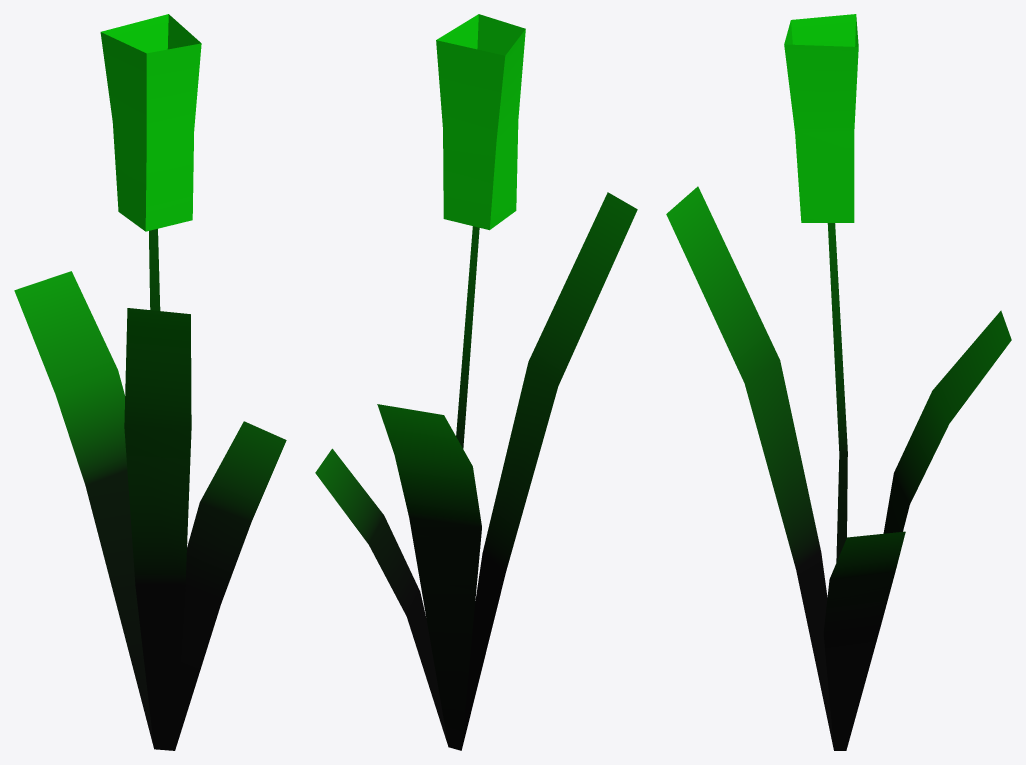
The model's file is IL3DN_Plant_Flower_02.fbx.
3 views of the same model, side by side, from view 1: azimuth 30°, elevation 25°; view 2: azimuth 150°, elevation 25°; view 3: azimuth 270°, elevation 25° (orthographic). The views are drawn at different scales.
Visible parts, largest first — view 1: Nature_Plant_Flower_02; view 2: Nature_Plant_Flower_02; view 3: Nature_Plant_Flower_02.
Part boxes in pixels (box(x1,y1,x2,y2)): Nature_Plant_Flower_02: box(14, 14, 286, 750); Nature_Plant_Flower_02: box(315, 14, 637, 750); Nature_Plant_Flower_02: box(666, 14, 1011, 750).
Size of the model in its own units: 12.86 by 37.85 by 16.77.
